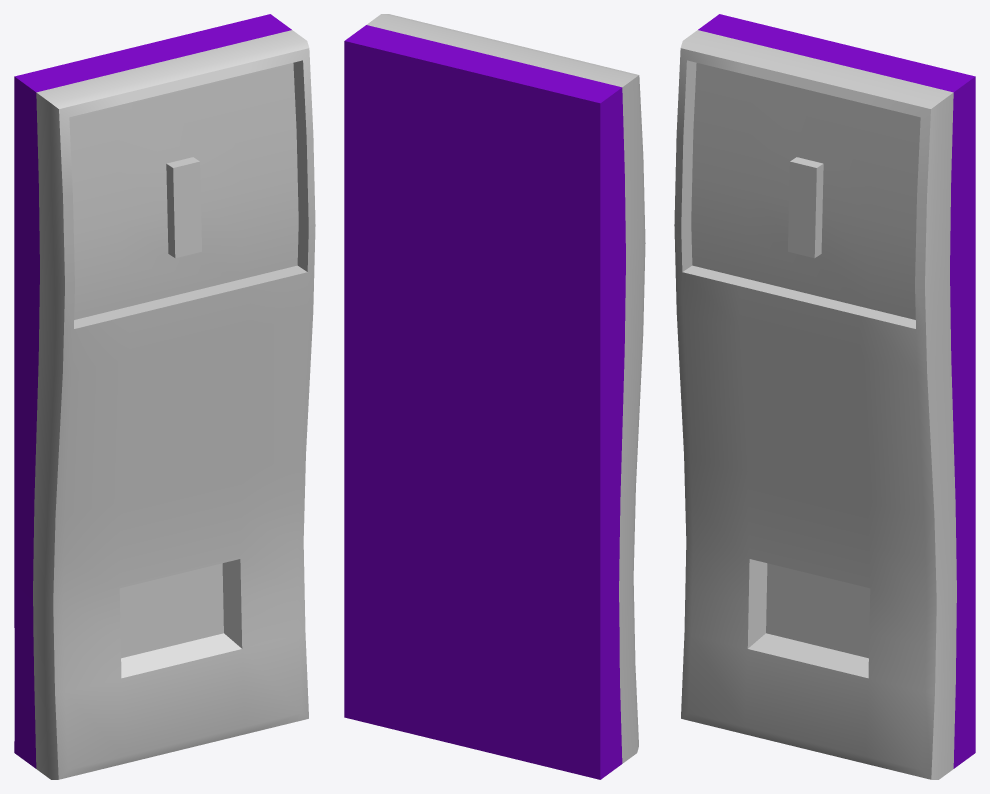
Rendered from phone_case.fbx.
3 views of the same model, side by side, from view 1: azimuth 30°, elevation 25°; view 2: azimuth 150°, elevation 25°; view 3: azimuth 330°, elevation 25° (orthographic).
Visible parts, largest first — view 1: Box004; view 2: Box004; view 3: Box004.
Part boxes in pixels (<box>): Box004: <box>14,14,315,779</box>; Box004: <box>344,14,645,779</box>; Box004: <box>674,14,975,779</box>.
Size of the model in its own units: 3.39 by 8.55 by 1.13.
